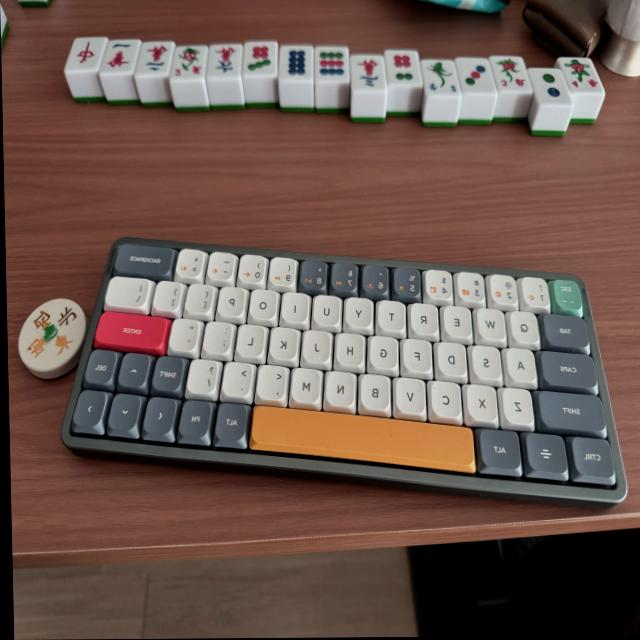f2: (421, 59, 460, 96)
ff2: (170, 45, 207, 80)
ff3: (490, 57, 534, 94)
ff4: (557, 58, 607, 96)
m1: (97, 40, 139, 75)
m2: (133, 41, 173, 77)
m3: (349, 55, 385, 92)
m6: (207, 43, 241, 77)
t2: (526, 70, 573, 106)
t3: (456, 57, 498, 93)
t6: (384, 50, 422, 87)
t7: (243, 42, 279, 79)
t8: (279, 47, 313, 83)
t9: (315, 48, 351, 84)
zhong: (65, 37, 109, 73)
